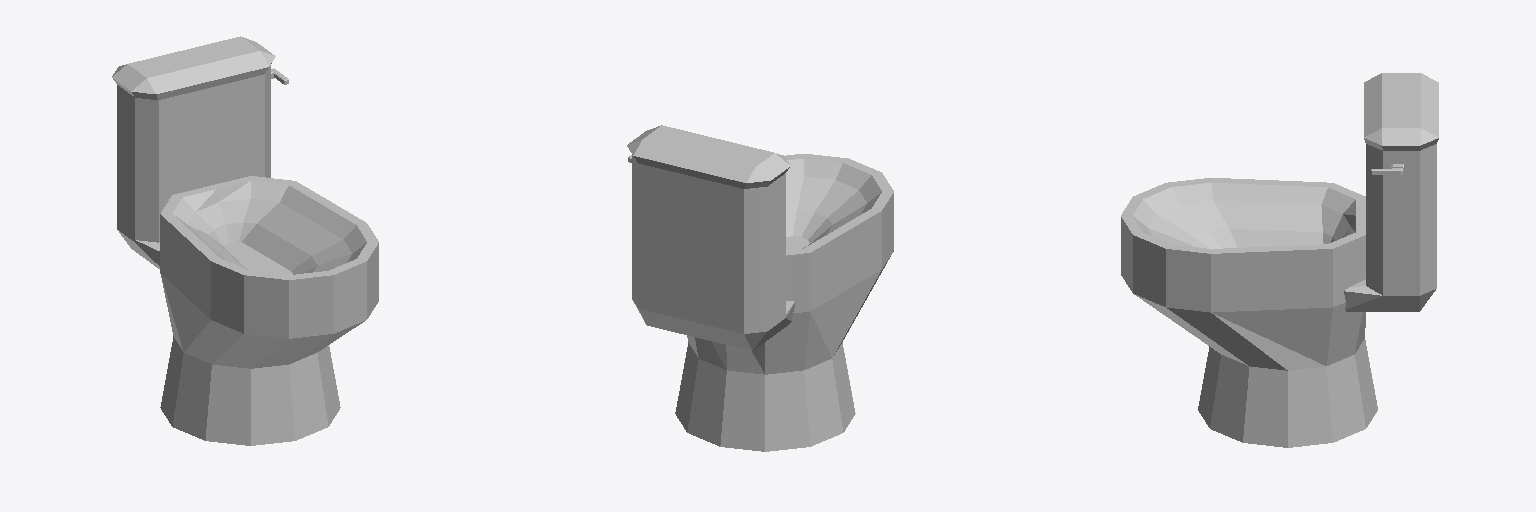
The model's file is toilet.obj.
3 views of the same model, side by side, from view 1: azimuth 30°, elevation 25°; view 2: azimuth 150°, elevation 25°; view 3: azimuth 270°, elevation 25° (orthographic).
Visible parts, largest first — view 1: Cylinder; view 2: Cylinder; view 3: Cylinder.
Part boxes in pixels (x1,y1,x2,y2): Cylinder: (112,36,378,445); Cylinder: (627,125,893,451); Cylinder: (1121,73,1438,447).
Bounding box in the file's own units: 2.04 × 3.78 × 3.53.